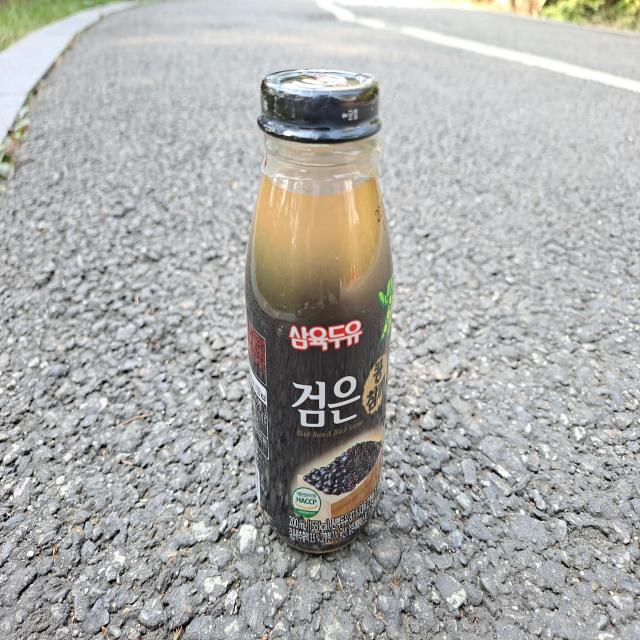glass: (245, 69, 394, 553)
